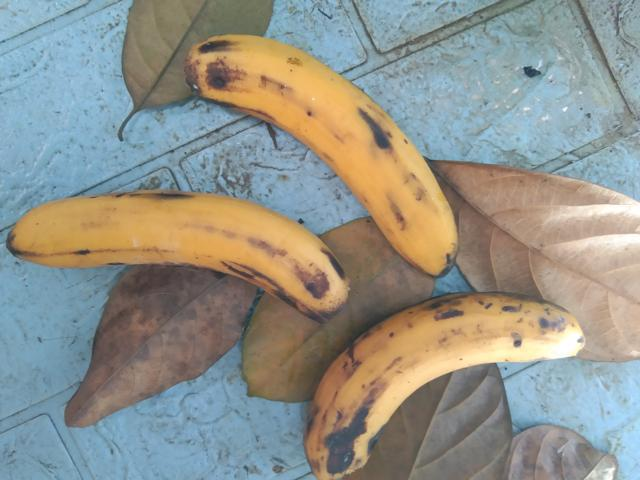overripe: (295, 283, 594, 479), (18, 181, 347, 327)
ripe: (185, 30, 480, 276)
